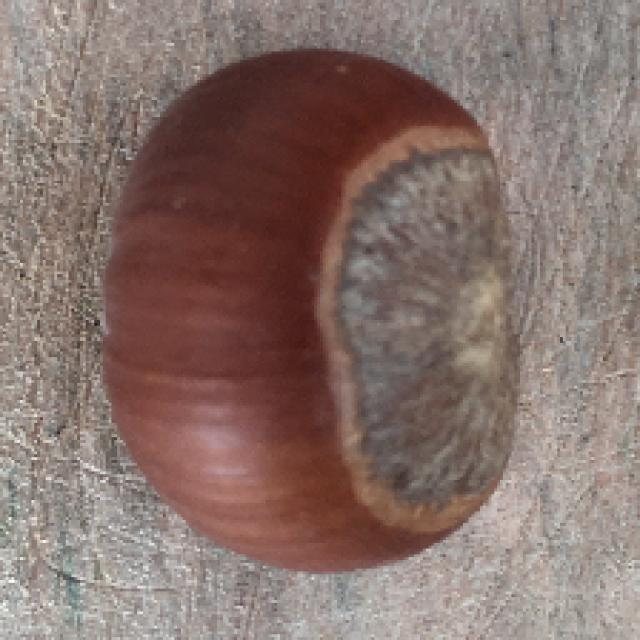DamagedHazelnut: (93, 43, 526, 581)
